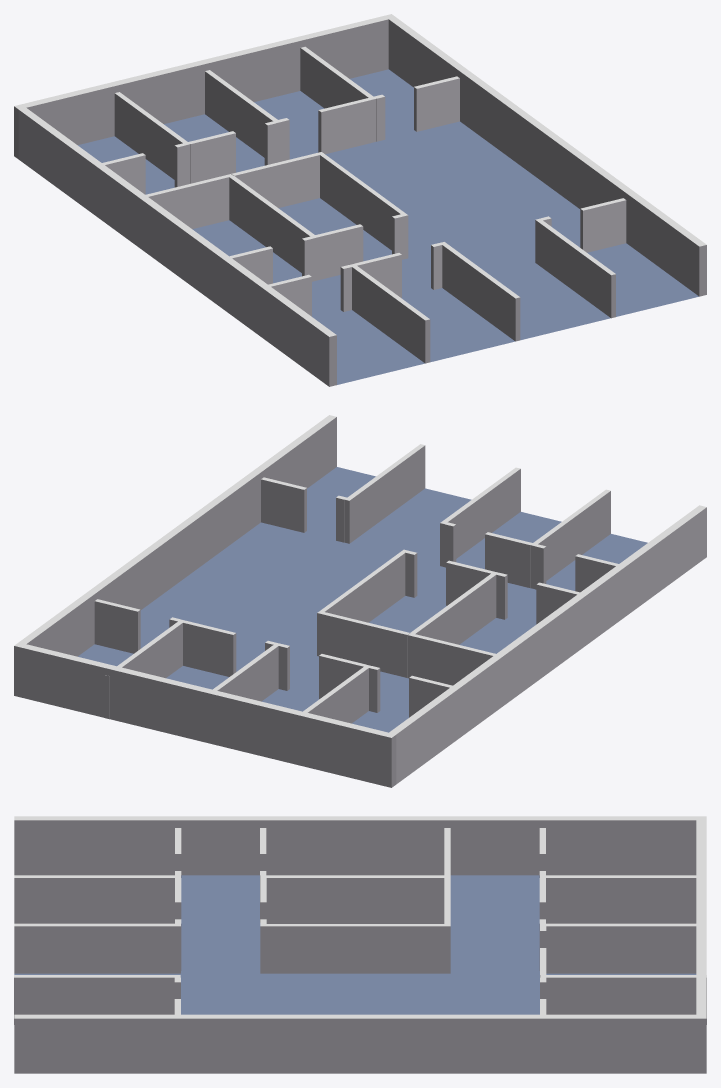
The model's file is Map_1.fbx.
3 views of the same model, one above another, from view 1: azimuth 30°, elevation 25°; view 2: azimuth 150°, elevation 25°; view 3: azimuth 270°, elevation 25° (orthographic). The views are drawn at different scales.
Parts seen in each view (by area): view 1: Map_1; view 2: Map_1; view 3: Map_1.
Part boxes in pixels (<box>): Map_1: <box>14,14,706,386</box>; Map_1: <box>14,415,706,787</box>; Map_1: <box>14,816,706,1073</box>.
Size of the model in its own units: 3148 by 398 by 4557.
